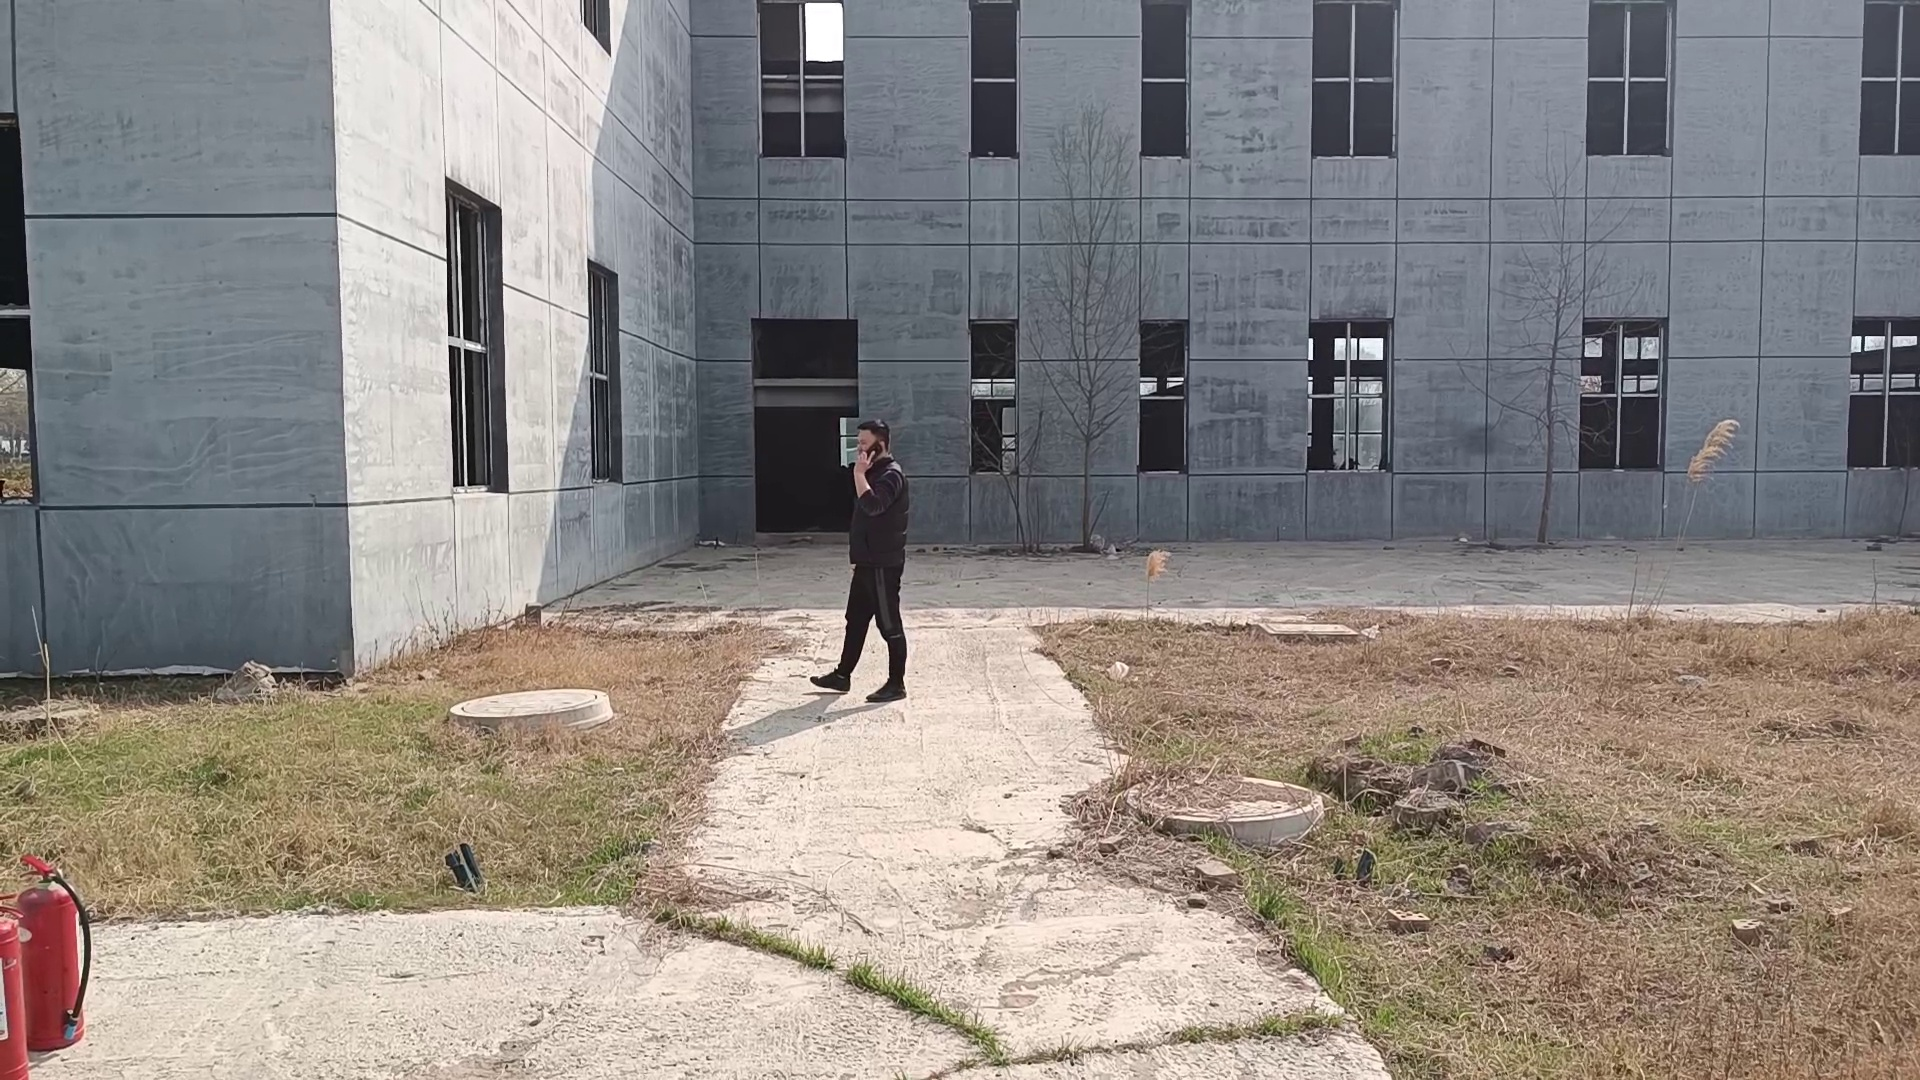phone: (843, 417, 895, 475)
